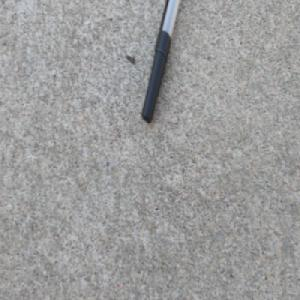Pen: (141, 0, 182, 125)
